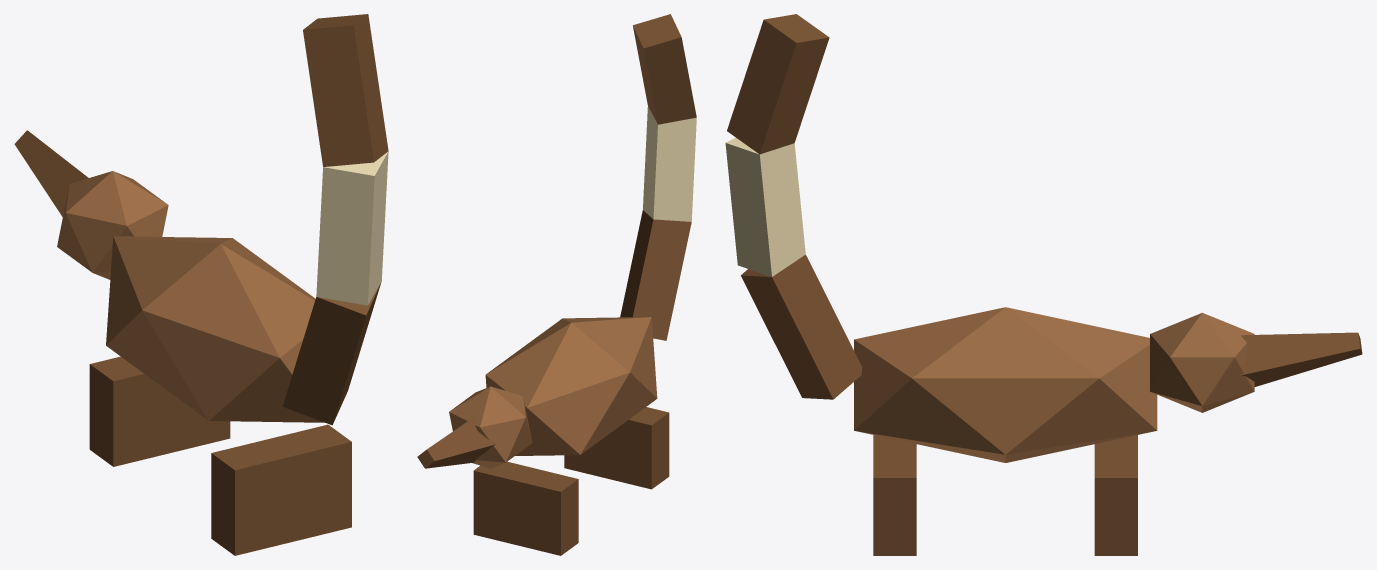
The model's file is quati.glb.
The picture shows the model from 3 angles, left to right: view 1: azimuth 30°, elevation 25°; view 2: azimuth 150°, elevation 25°; view 3: azimuth 270°, elevation 25°; orthographic projection. The views are drawn at different scales.
Parts seen in each view (by area): view 1: corpo; view 2: corpo; view 3: corpo.
Boxes of the visible parts, box(x1,y1,x2,y2) form: corpo: box(14, 14, 388, 555); corpo: box(417, 14, 696, 555); corpo: box(725, 14, 1362, 555).
Size of the model in its own units: 0.1342 by 0.458 by 0.5181.
